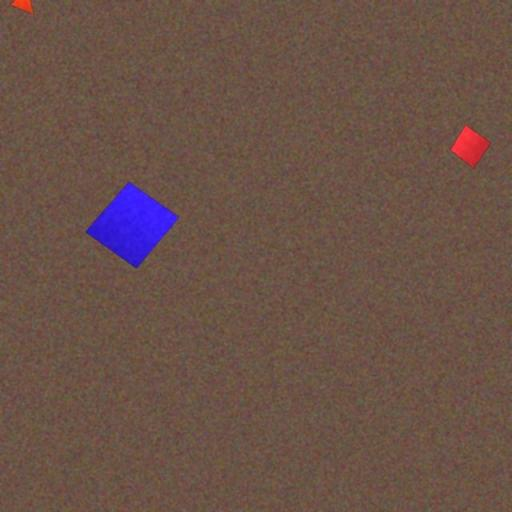BLUE_SQUARE: (84, 180, 180, 270)
RED_SQUARE: (450, 124, 492, 170)
